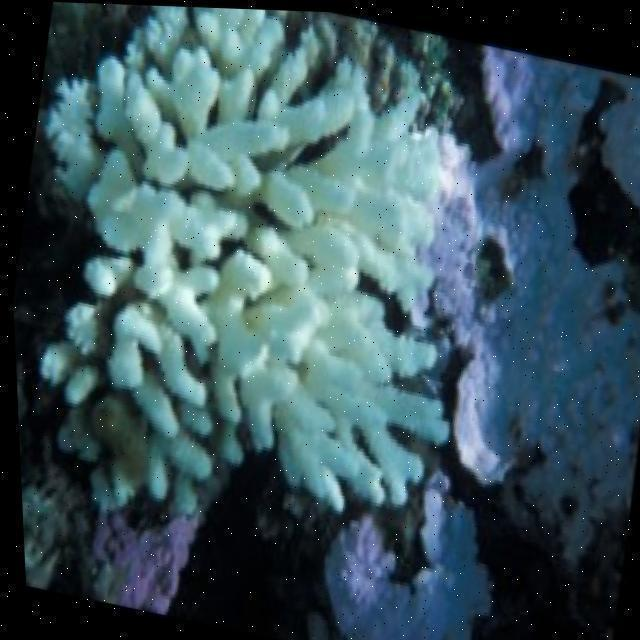Bleached Coral: (0, 0, 514, 575)
